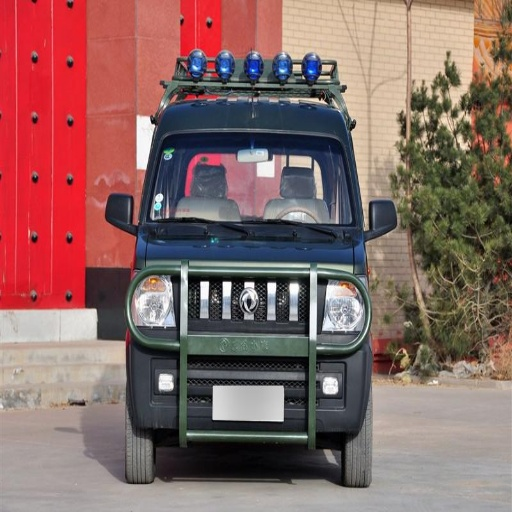front_bumper: (315, 350, 366, 434), (137, 377, 201, 432)
hood: (144, 236, 352, 326)
trunk: (156, 261, 300, 408), (313, 344, 357, 396)
